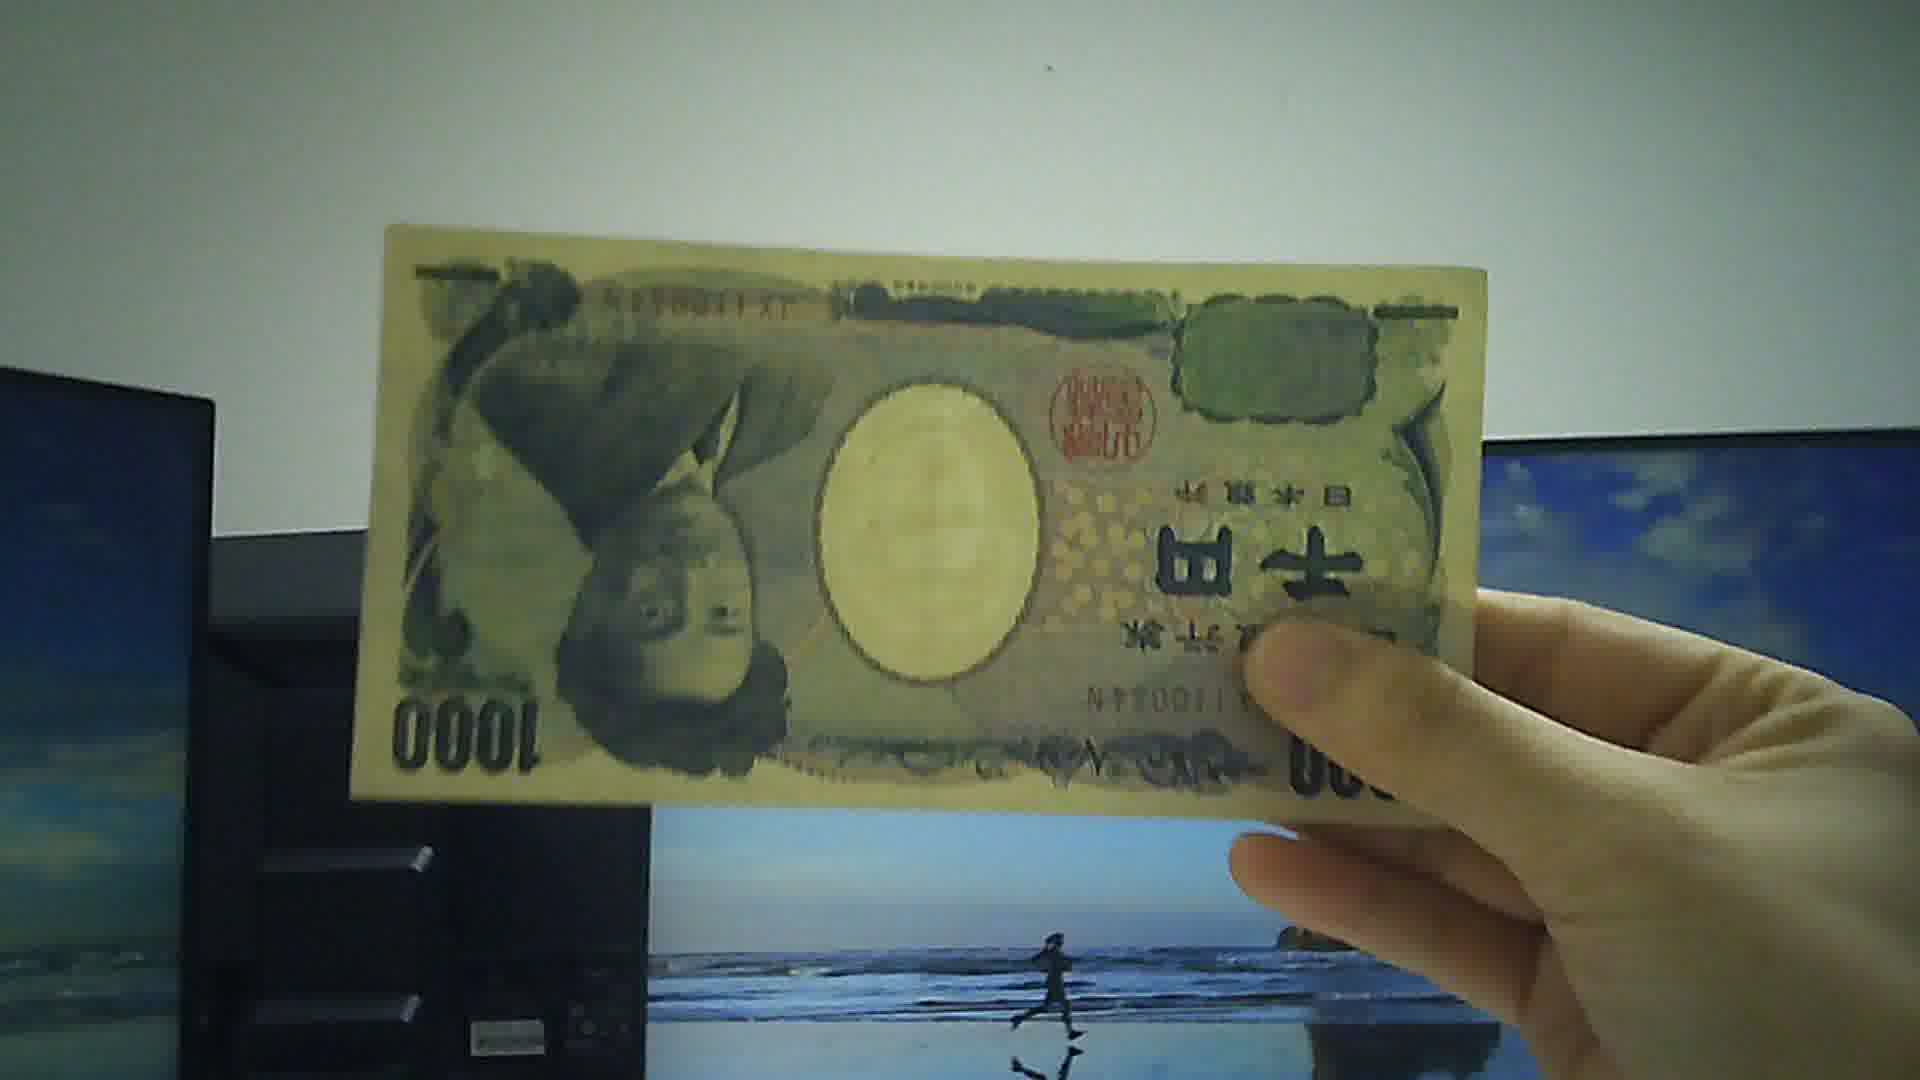1,000 Yen: (348, 211, 1472, 827)
